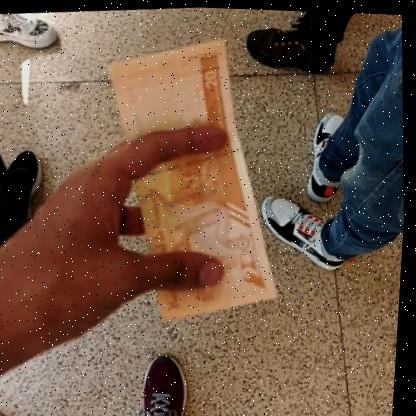twenty-back-vef: (94, 30, 294, 329)
